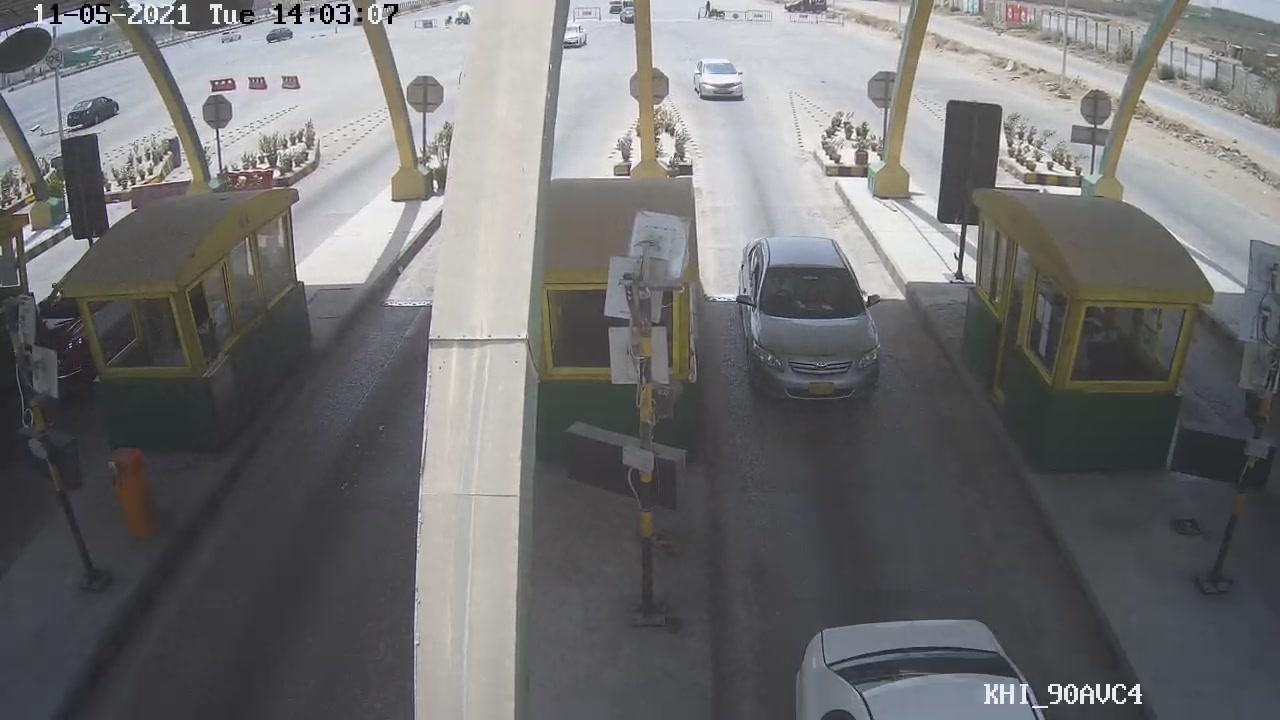F1: (736, 232, 893, 412)
